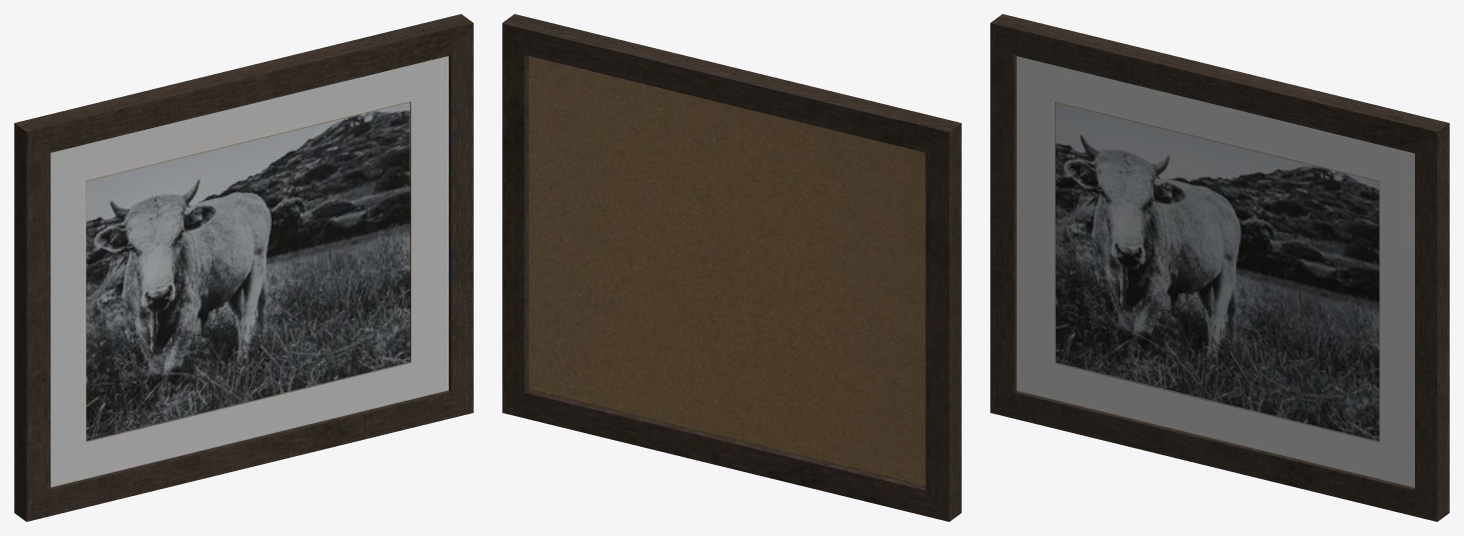
Rendered from abo-B073P1CJYS.glb.
The picture shows the model from 3 angles, left to right: view 1: azimuth 30°, elevation 25°; view 2: azimuth 150°, elevation 25°; view 3: azimuth 330°, elevation 25°; orthographic projection.
Size of the model in its own units: 0.546 by 0.455 by 0.026.
1 material, 1 textured.
